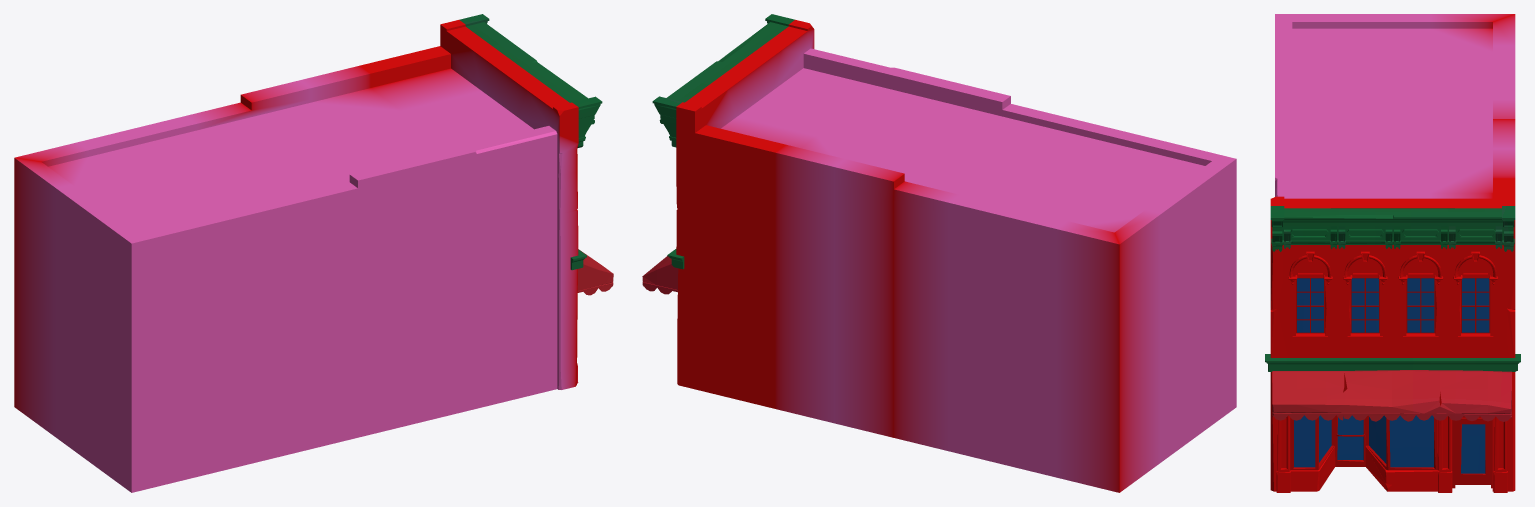
Rendered from Backhill_Building04.fbx.
3 renders of one model, left to right at view 1: azimuth 30°, elevation 25°; view 2: azimuth 150°, elevation 25°; view 3: azimuth 270°, elevation 25°, orthographic. The views are drawn at different scales.
Visible parts, largest first — view 1: SM_Backhill_Building_03.mo; view 2: SM_Backhill_Building_03.mo; view 3: SM_Backhill_Building_03.mo.
Boxes of the visible parts, x1,y1,x2,y2 form: SM_Backhill_Building_03.mo: [14, 14, 613, 492]; SM_Backhill_Building_03.mo: [642, 14, 1236, 492]; SM_Backhill_Building_03.mo: [1265, 14, 1520, 492].
Bounding box in the file's own units: 1744 × 966 × 784.
